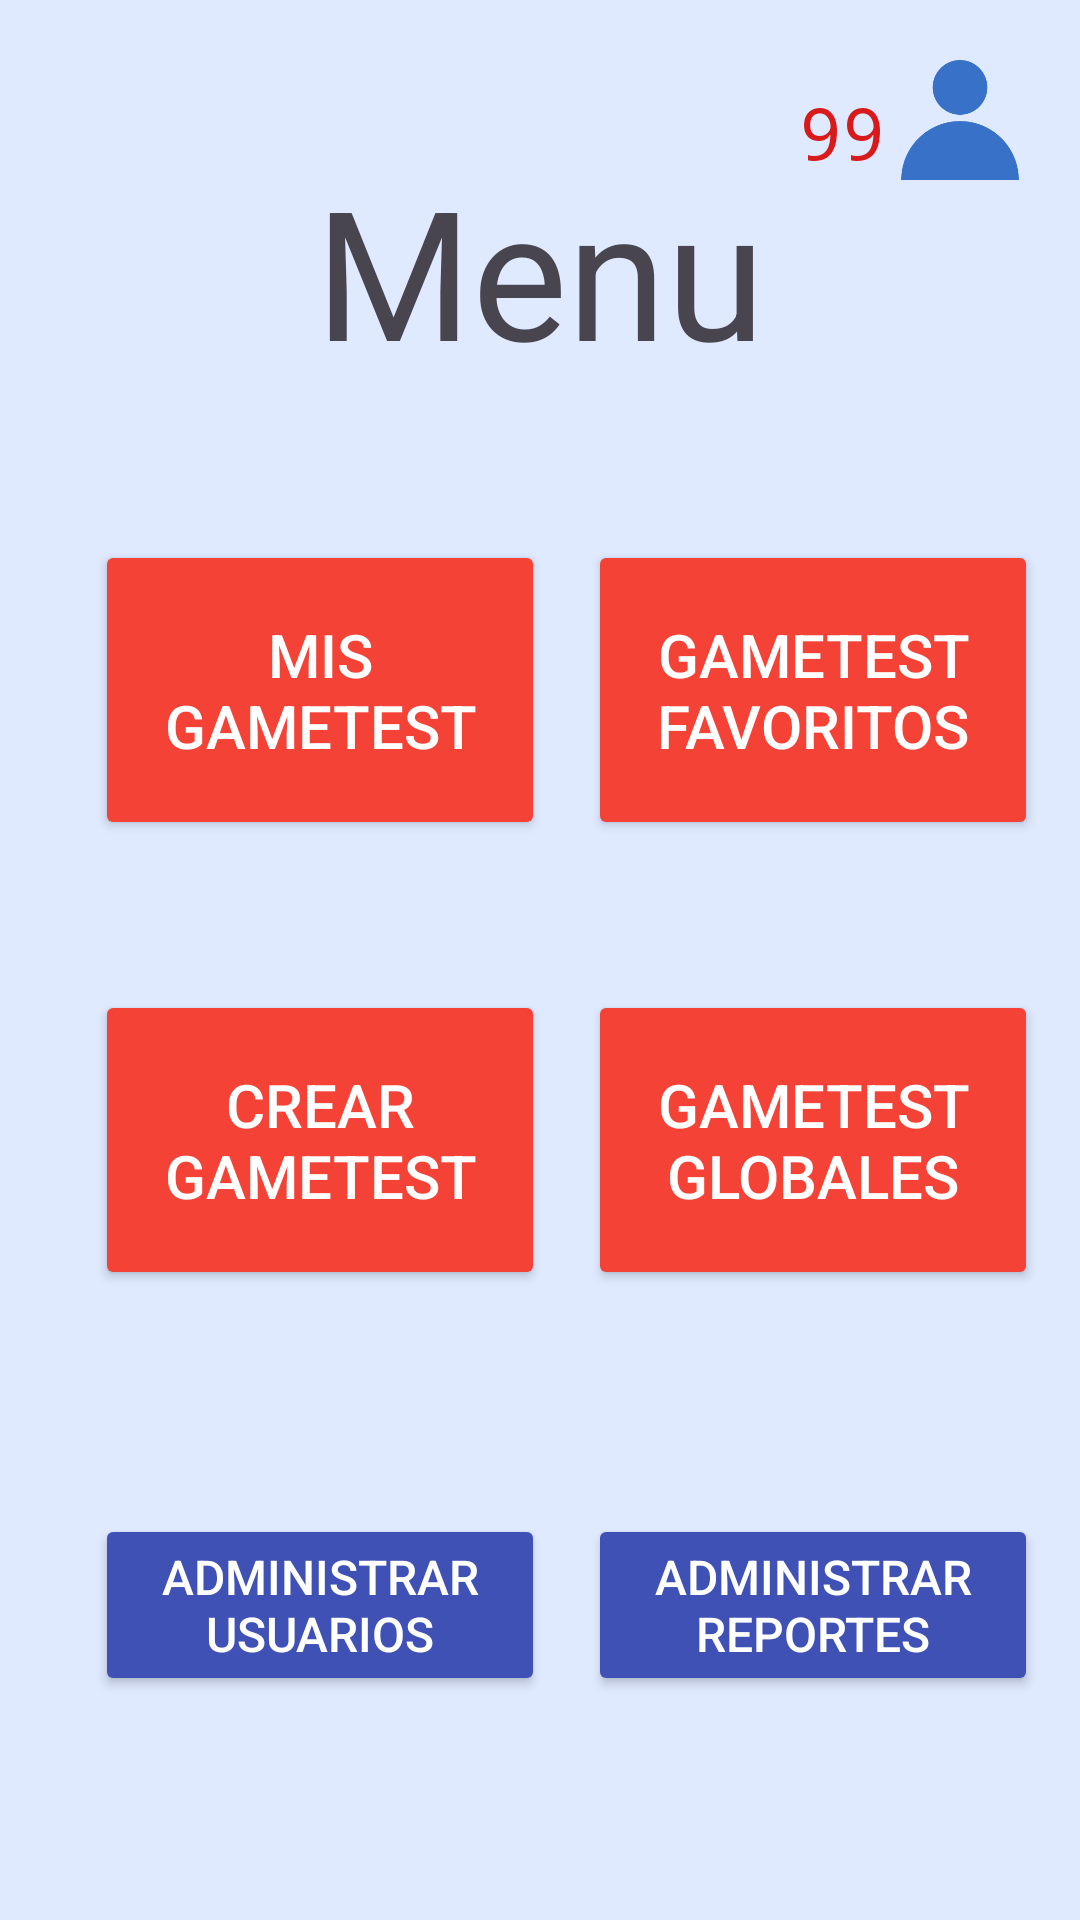

Icons on this 1080 x 1920 Android screen, each with its box as {"left": x1, "top": y1, "right": x2, "bottom": y2}:
option user: {"left": 901, "top": 60, "right": 1019, "bottom": 180}
